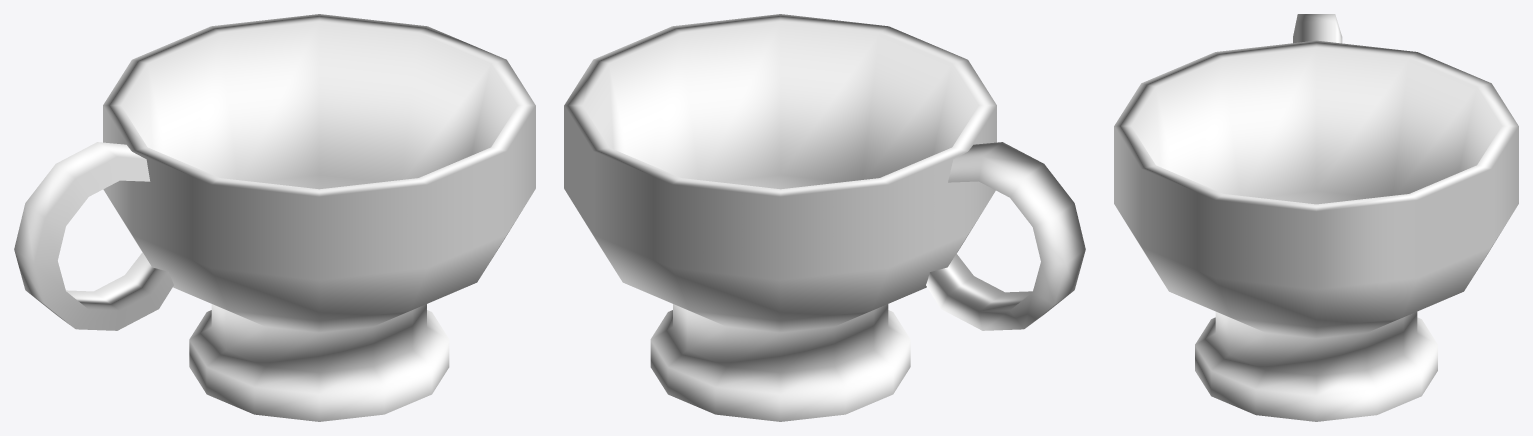
The model's file is TeaCup_Asset.fbx.
The picture shows the model from 3 angles, left to right: view 1: azimuth 30°, elevation 25°; view 2: azimuth 150°, elevation 25°; view 3: azimuth 270°, elevation 25°; orthographic projection. The views are drawn at different scales.
Parts seen in each view (by area): view 1: TeaCup; view 2: TeaCup; view 3: TeaCup.
Part boxes in pixels (x1,y1,x2,y2): TeaCup: (14, 14, 535, 421); TeaCup: (564, 14, 1085, 421); TeaCup: (1114, 14, 1518, 421).
Size of the model in its own units: 24.62 by 13.13 by 19.13.
